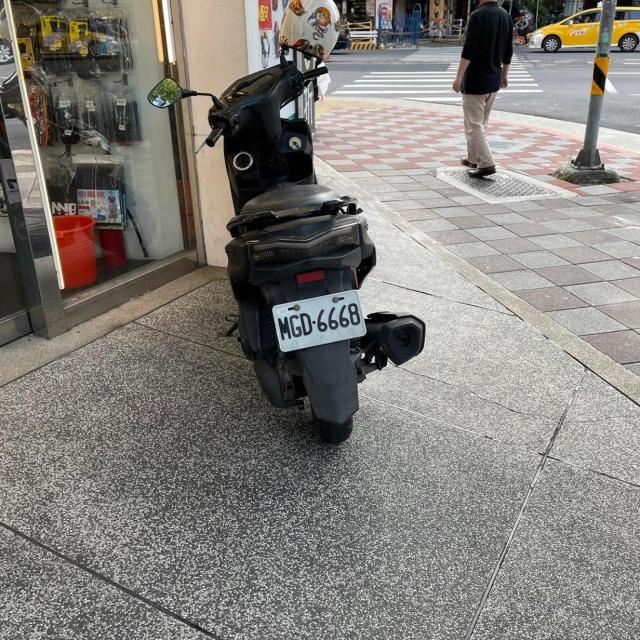W: (269, 286, 370, 354)
